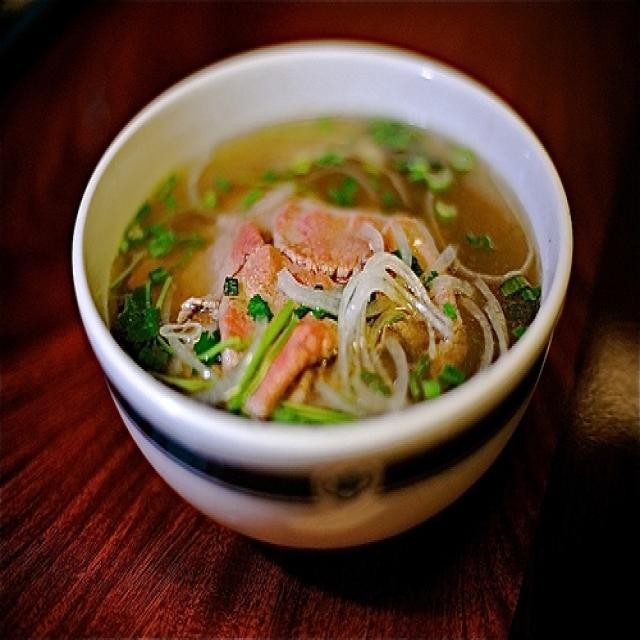面条主食: (55, 46, 585, 534)
